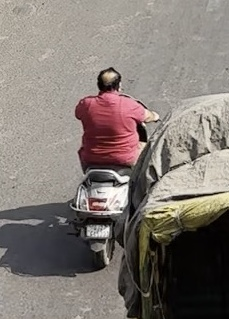BikeWithRider: (65, 61, 170, 274)
NoHelmet: (93, 64, 127, 95)
